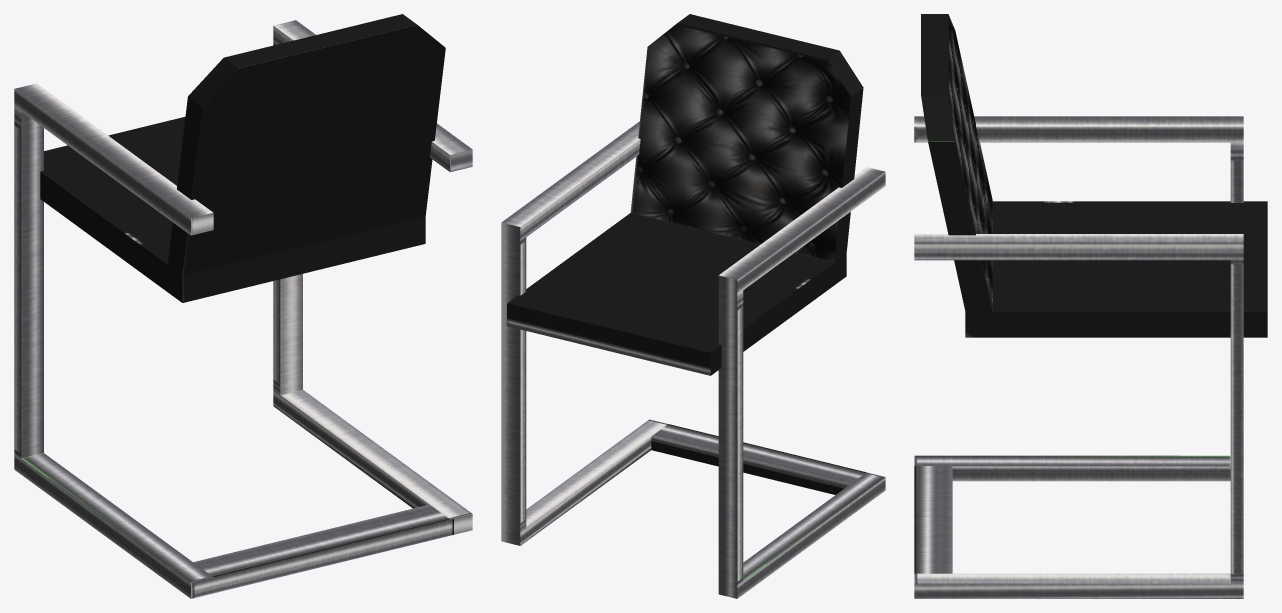
The model's file is krzesłonarad.glb.
The picture shows the model from 3 angles, left to right: view 1: azimuth 30°, elevation 25°; view 2: azimuth 150°, elevation 25°; view 3: azimuth 270°, elevation 25°; orthographic projection. The views are drawn at different scales.
Visible parts, largest first — view 1: Cube.019; view 2: Cube.019; view 3: Cube.019.
Boxes of the visible parts, x1=… form: Cube.019: x1=14, y1=14, x2=472, y2=598; Cube.019: x1=501, y1=14, x2=885, y2=598; Cube.019: x1=914, y1=14, x2=1267, y2=598.
Size of the model in its own units: 1.55 by 2.71 by 1.81.
Materials: 1 (1 with a texture image).
